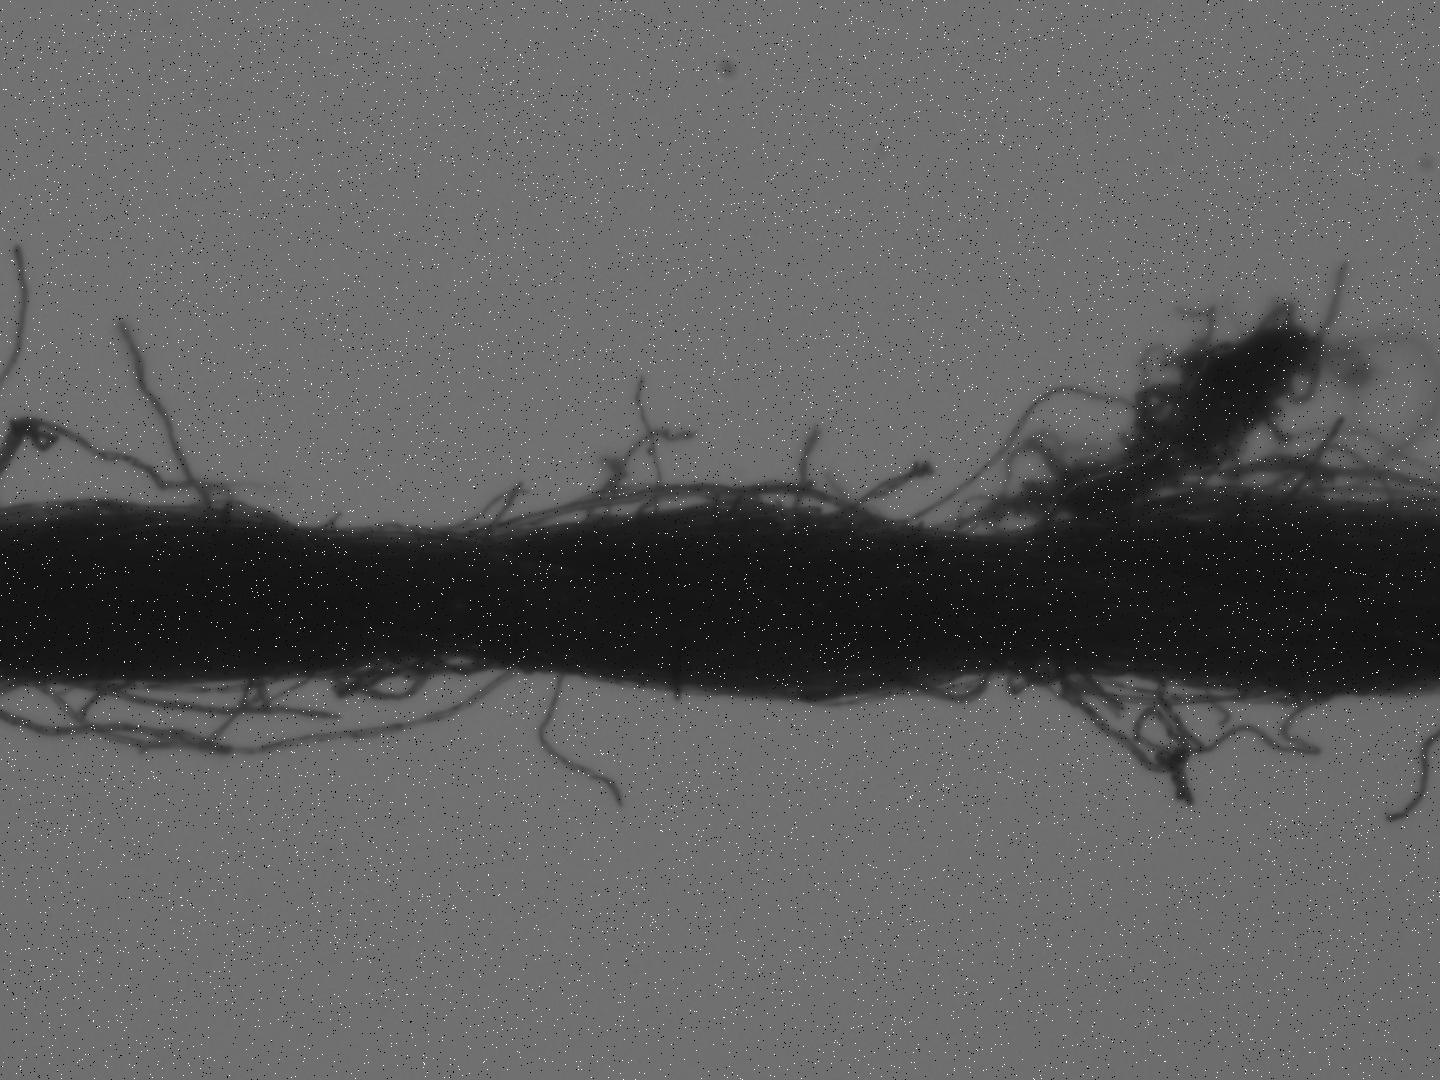loop_fiber: (933, 292, 1335, 541), (31, 648, 518, 762), (1002, 650, 1345, 809), (441, 478, 916, 552), (306, 647, 508, 709), (1284, 445, 1399, 509), (893, 664, 997, 709)
protruding_fiber: (111, 314, 227, 521), (535, 664, 632, 819), (788, 423, 825, 531)
